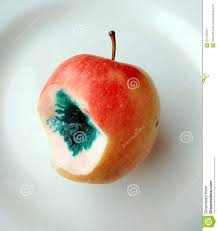damaged_apple: (39, 53, 162, 190)
